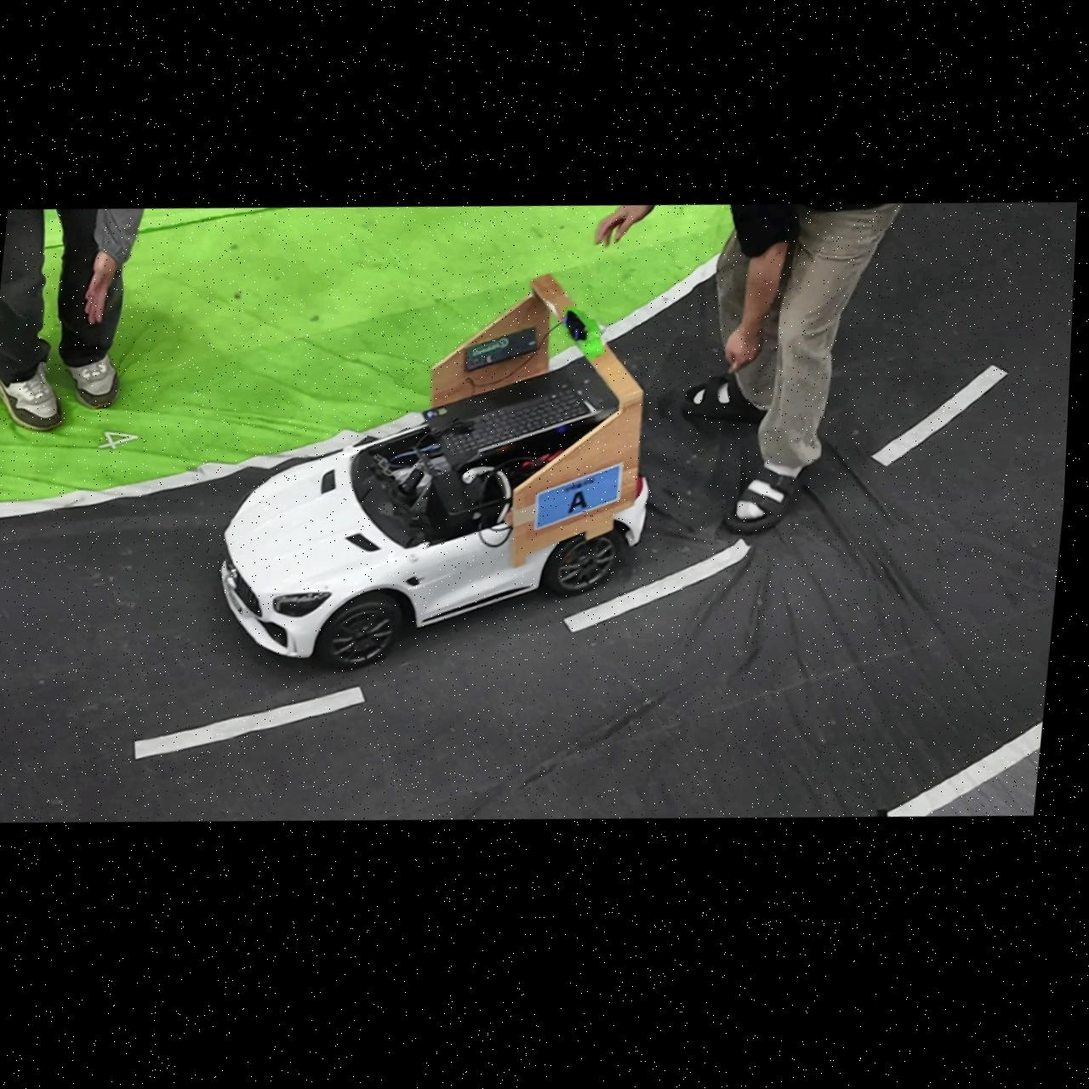broken_line: (563, 537, 749, 633), (134, 686, 365, 760), (870, 364, 1008, 467)
